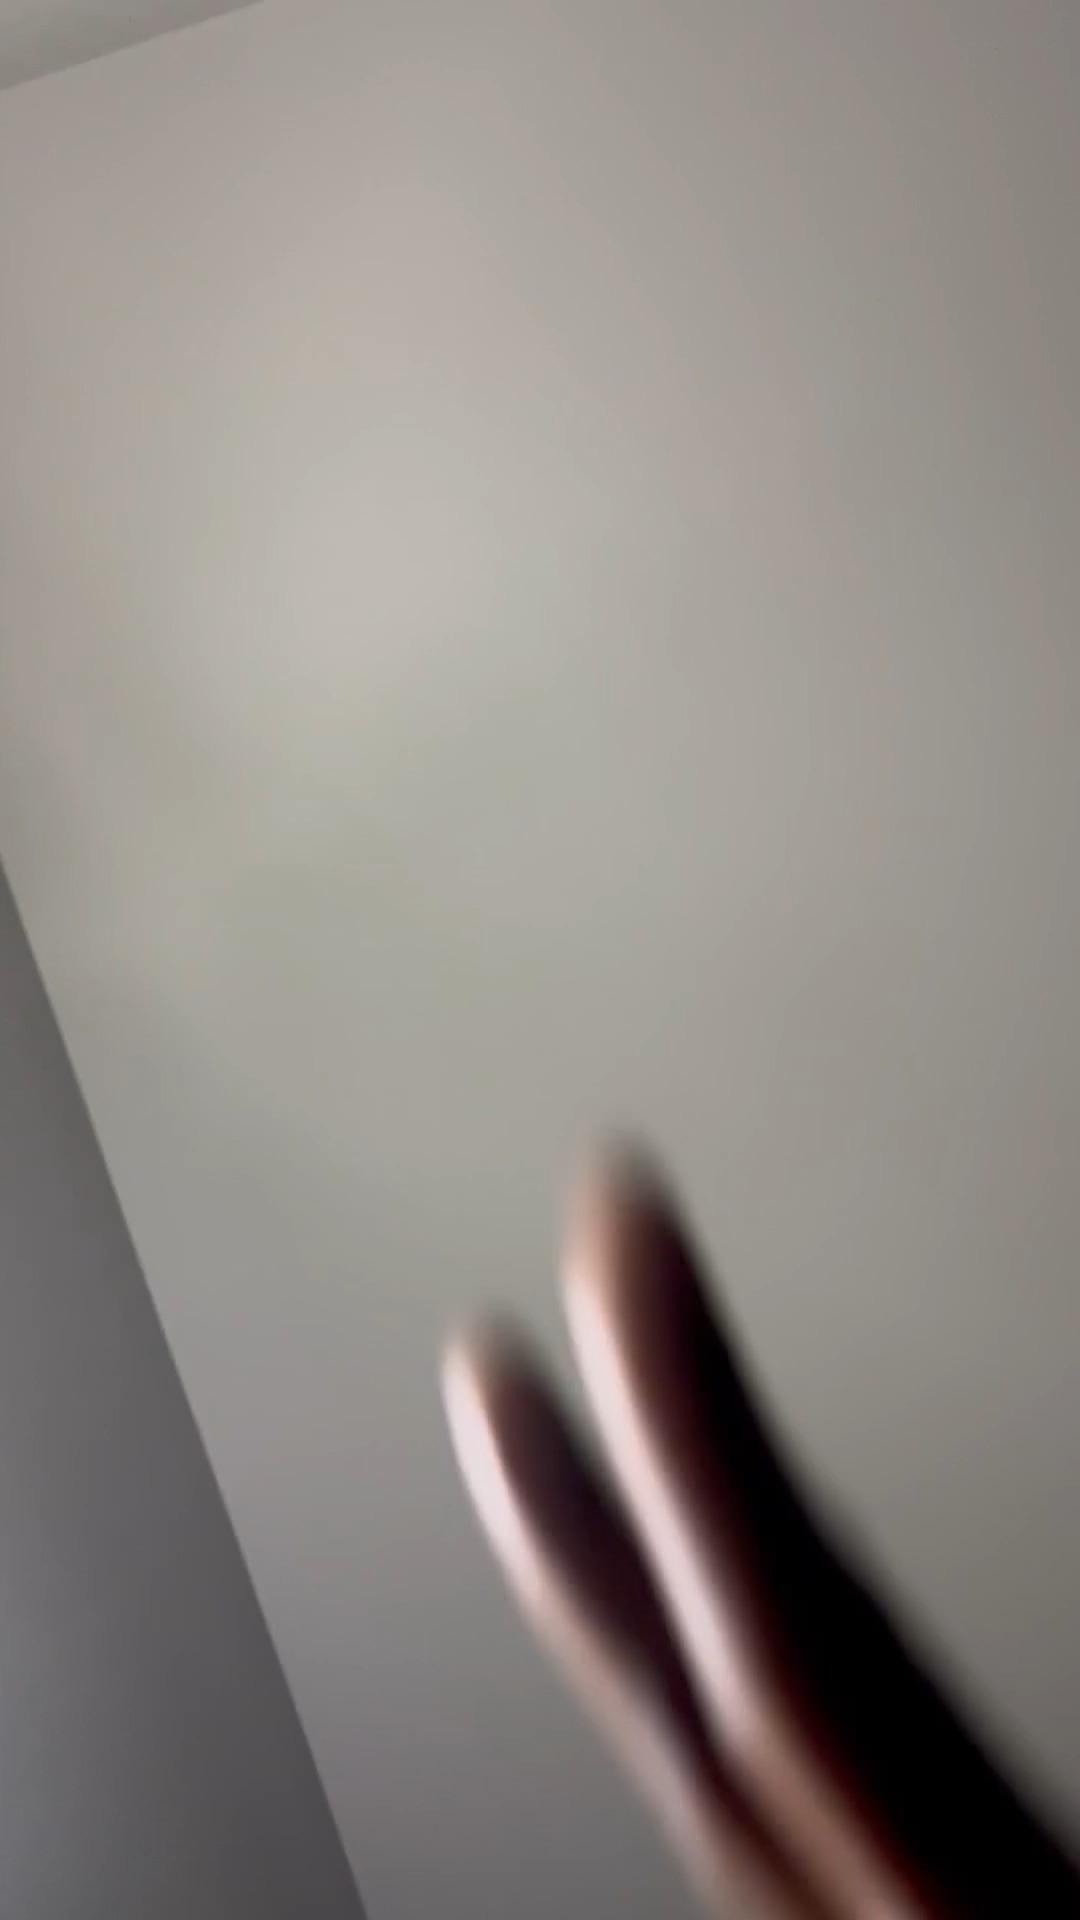Scissors: (438, 1130, 1080, 1920)
